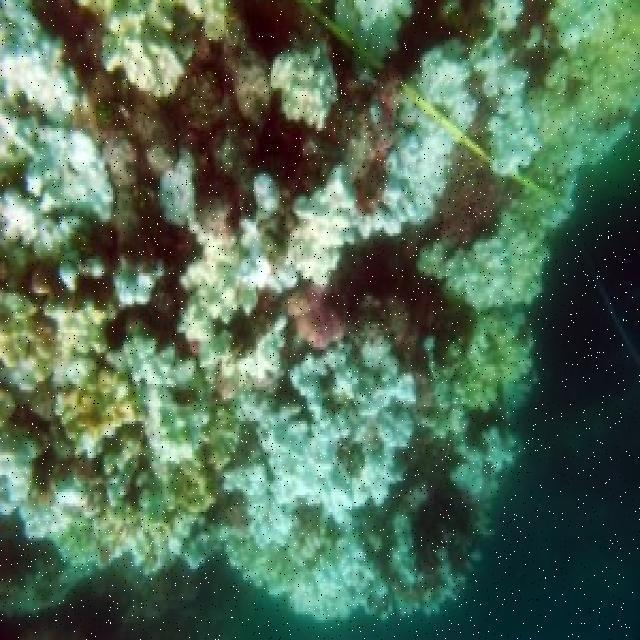Bleached: (4, 1, 640, 623)
